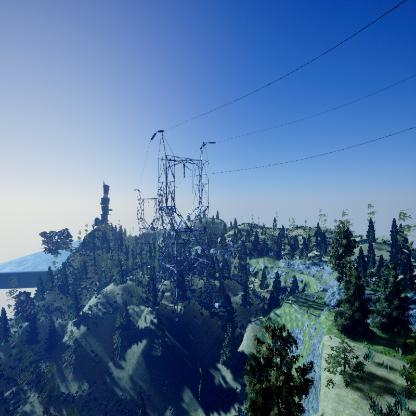tower: (148, 126, 222, 314)
